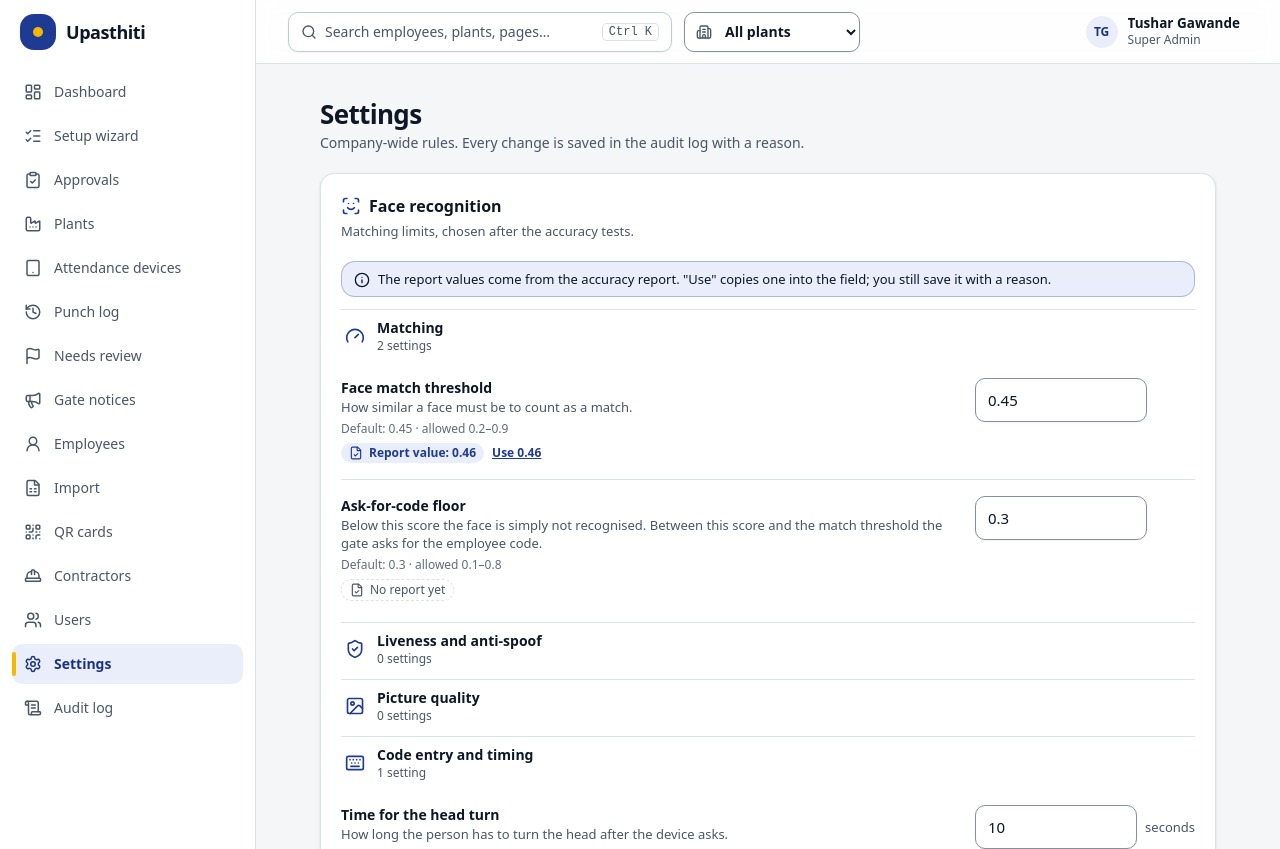
face and privacy settings (spec M3 §4.12) › warns when a threshold is lowered
The image size is (1280, 849).
Replace the text in the field labelled "Face match threshold" with "0.40" at (1061,400), box [975,378,1147,422]
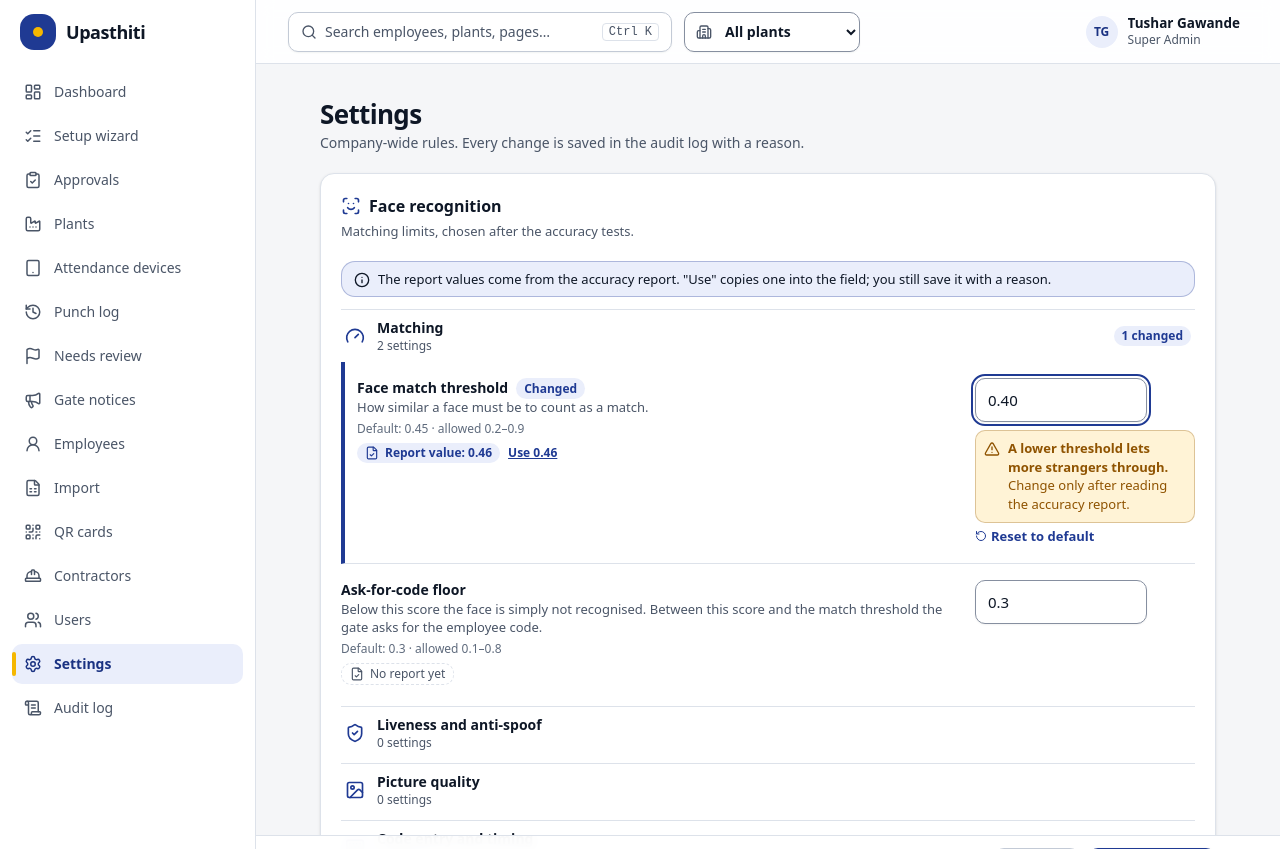
Result: the text "A lower threshold lets more strangers through." is shown at [1008,439,1168,476]
